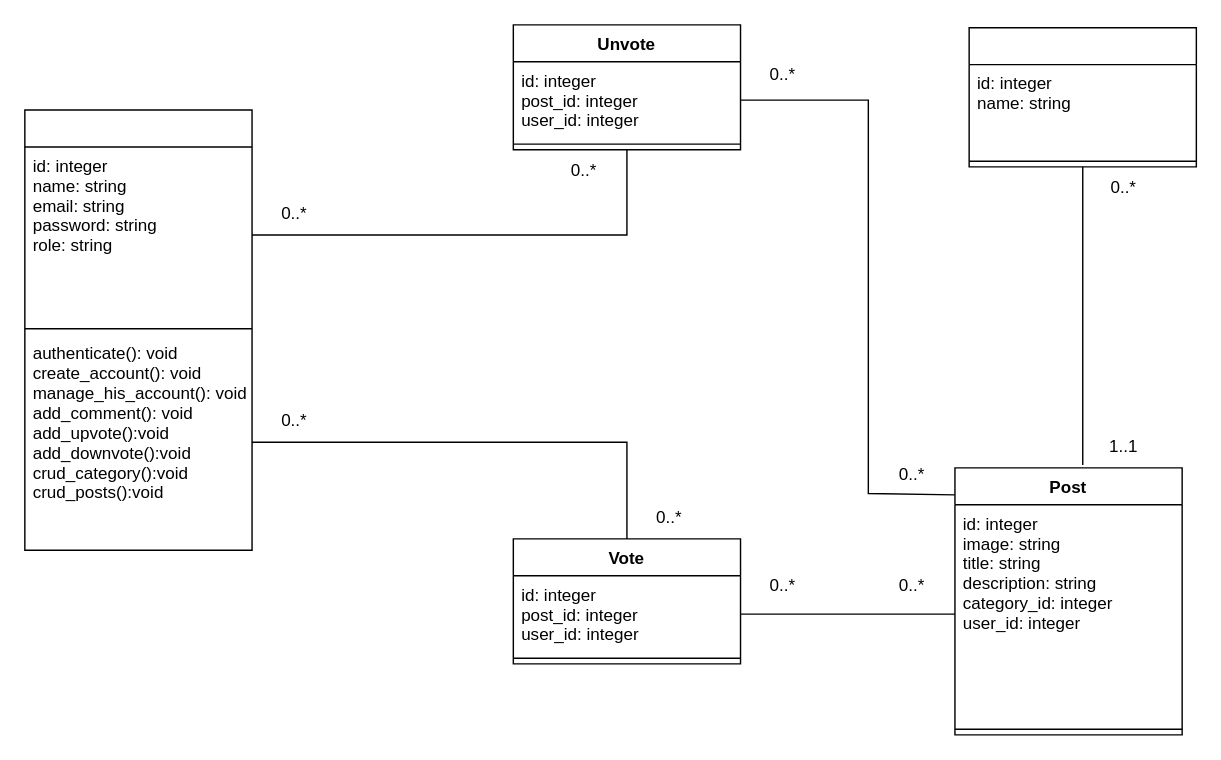
The diagram is 1221 pixels wide and 760 high, and some of its shapes have lost their labels. The shapes that lost their labels are listed below. From the top down, each one's box as (x1, y1, x2, y2) in pixels, then its label:
(968, 26, 1196, 167): Category
(23, 109, 252, 550): User
